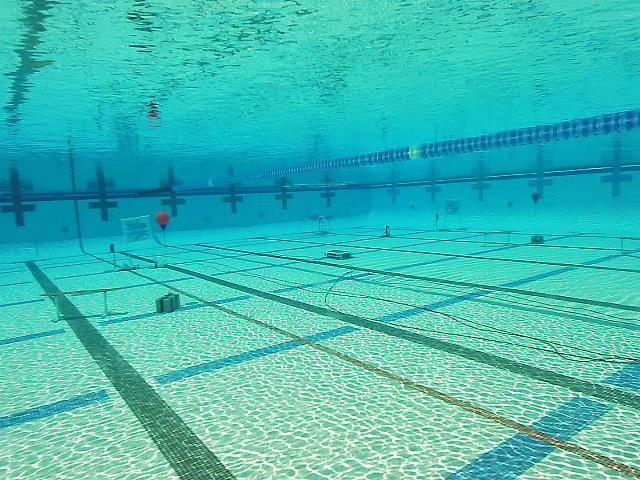buoy: (156, 211, 172, 231)
dropper: (322, 247, 355, 261)
table: (310, 212, 338, 235)
torpedo: (121, 217, 151, 244), (442, 196, 462, 218)
